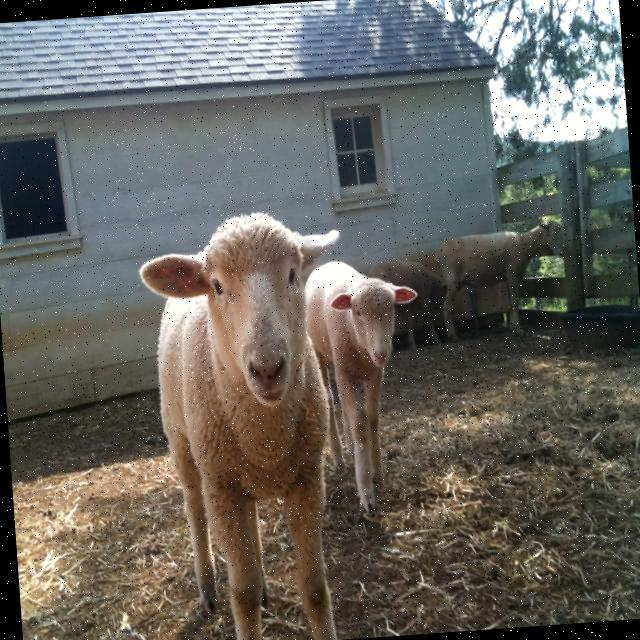sheep: (138, 209, 332, 640), (304, 260, 415, 509)
